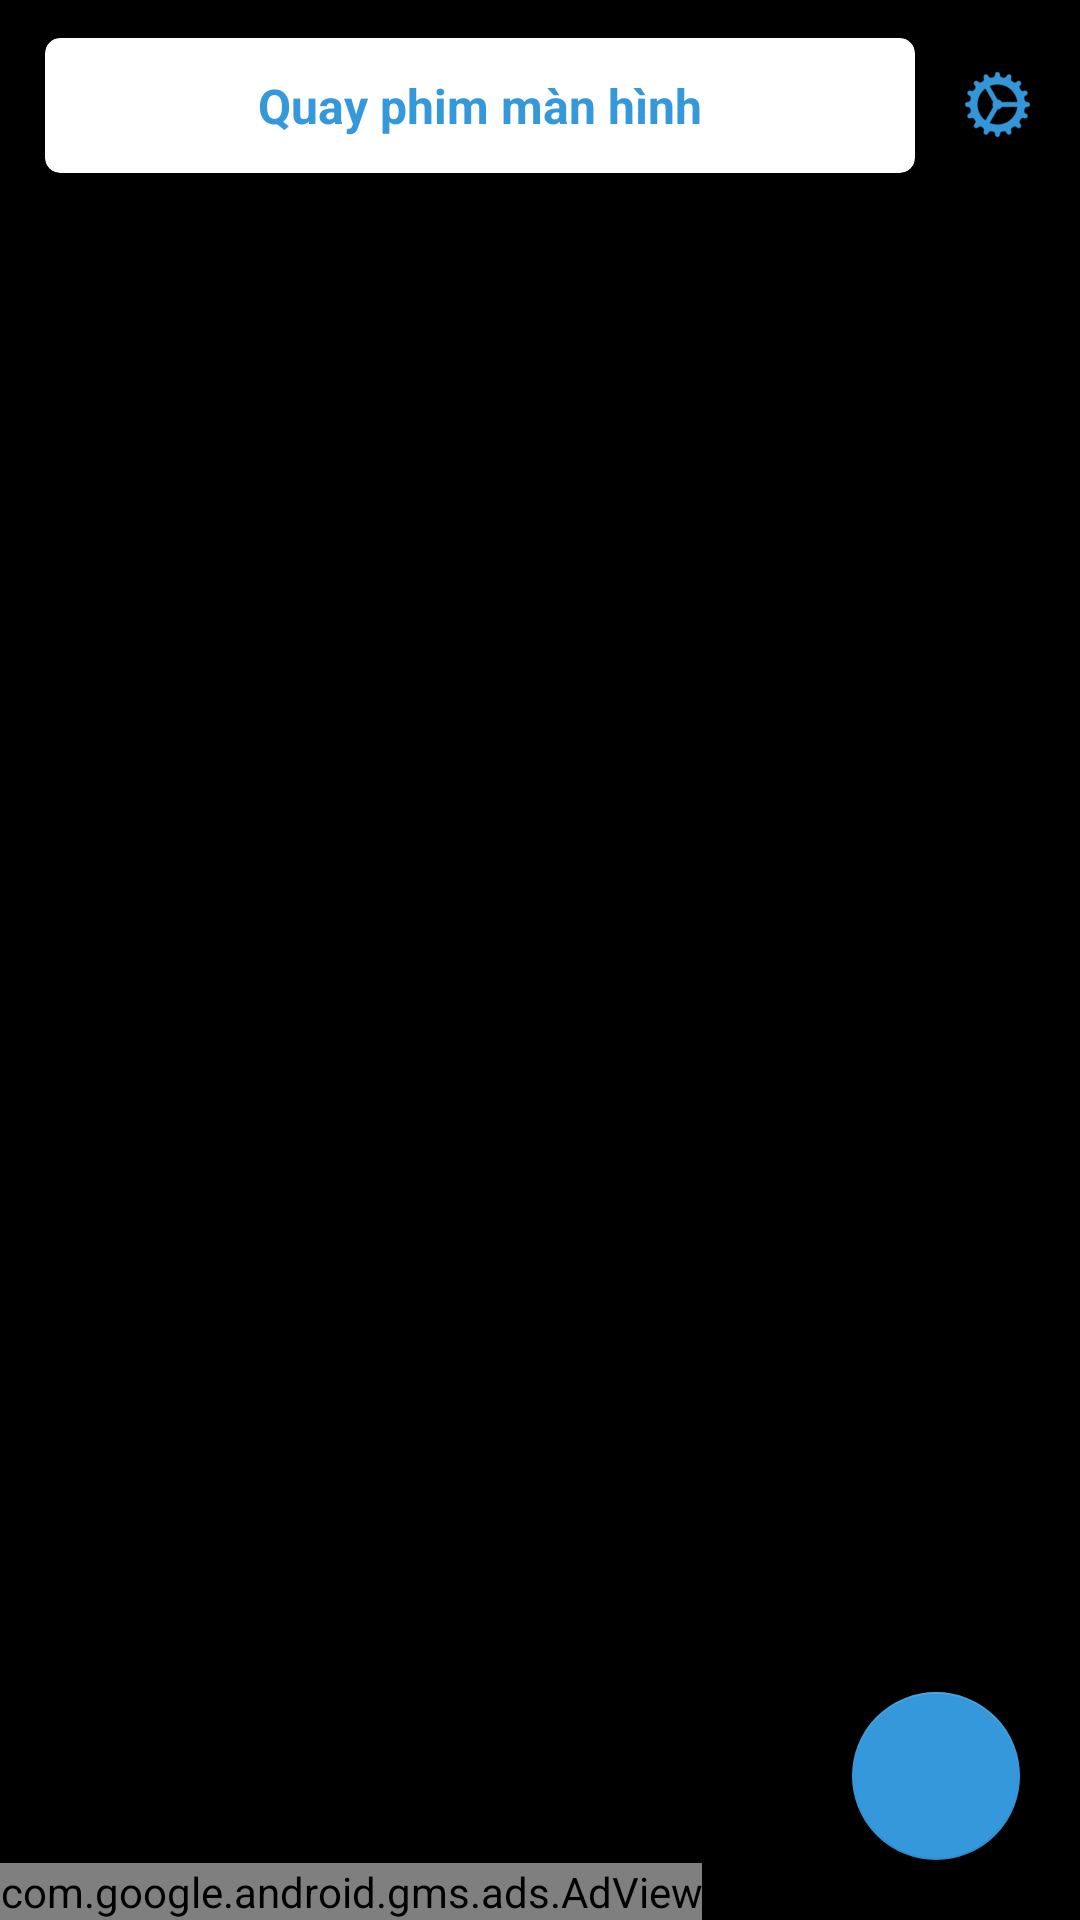

Point at icon controls on the screen. Image size 1080px×1920px, points as (x,y).
setting: (997,104)
